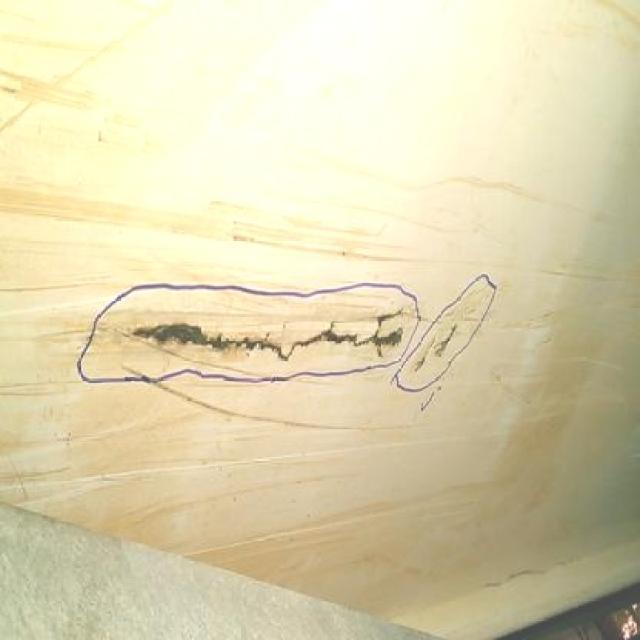crack: (127, 314, 404, 363), (418, 329, 456, 372)
